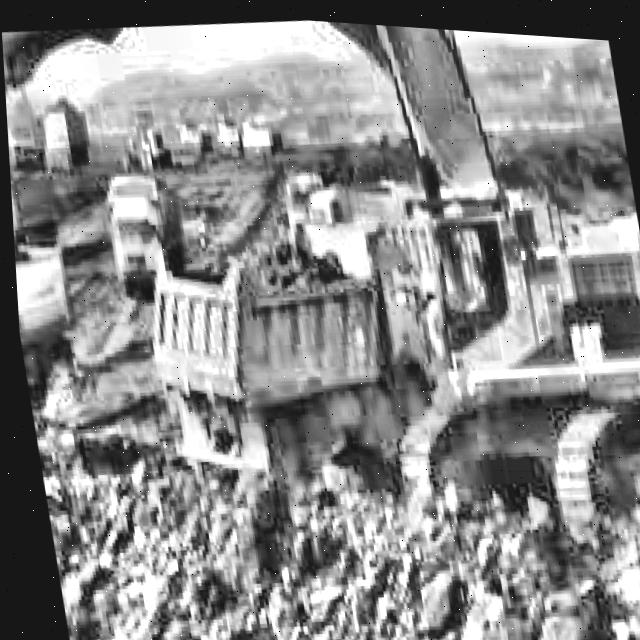dump_truck: (135, 202, 446, 508), (11, 242, 91, 418), (88, 169, 191, 293), (34, 93, 93, 175)
excavator: (0, 0, 640, 601)
